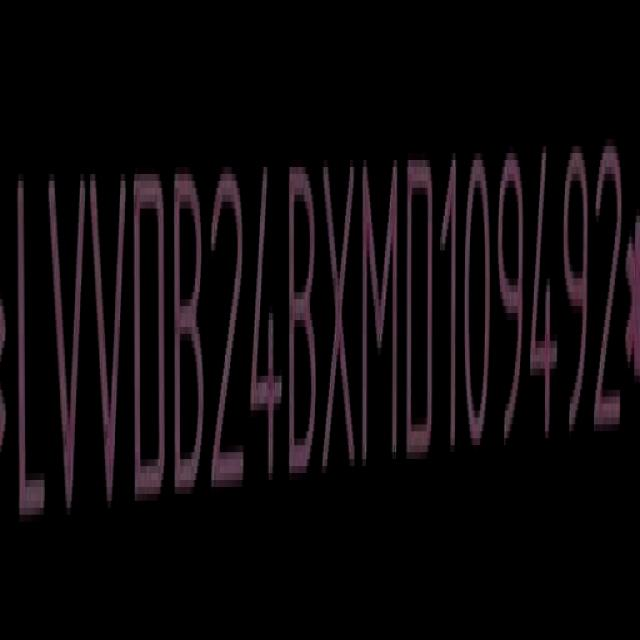0: (460, 151, 491, 463)
1: (440, 150, 458, 467)
2: (210, 169, 248, 508), (595, 140, 625, 448)
4: (251, 162, 285, 499), (529, 145, 559, 452)
9: (499, 149, 528, 458), (562, 140, 591, 447)
B: (175, 167, 209, 512), (291, 155, 322, 490)
D: (130, 160, 167, 514), (409, 151, 437, 469)
L: (15, 168, 49, 540)
M: (360, 152, 402, 476)
V: (48, 169, 88, 530), (91, 163, 129, 525)
X: (321, 151, 357, 485)
